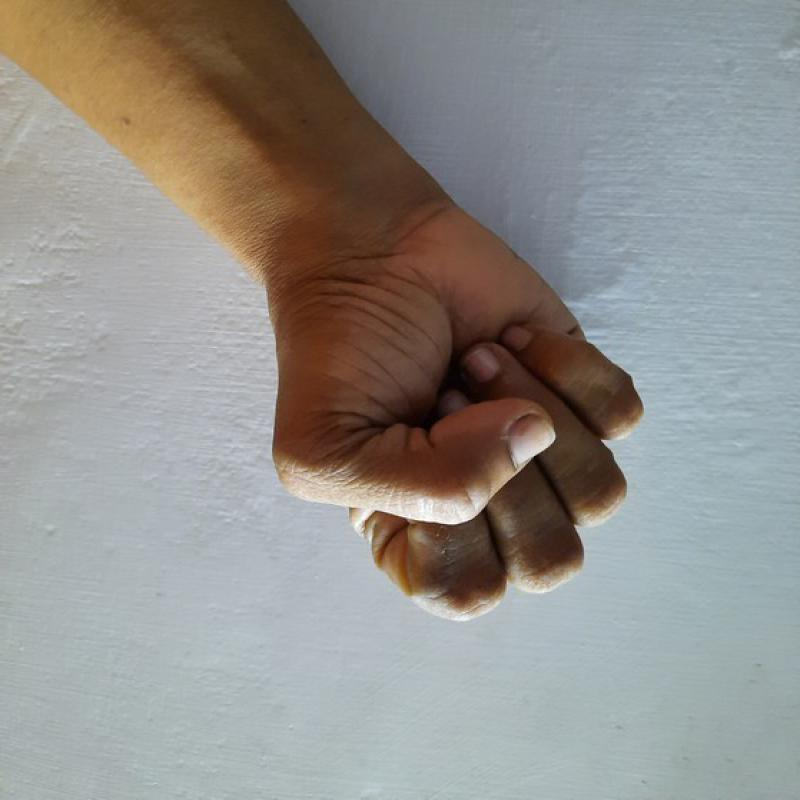Mushti: (234, 223, 657, 629)
